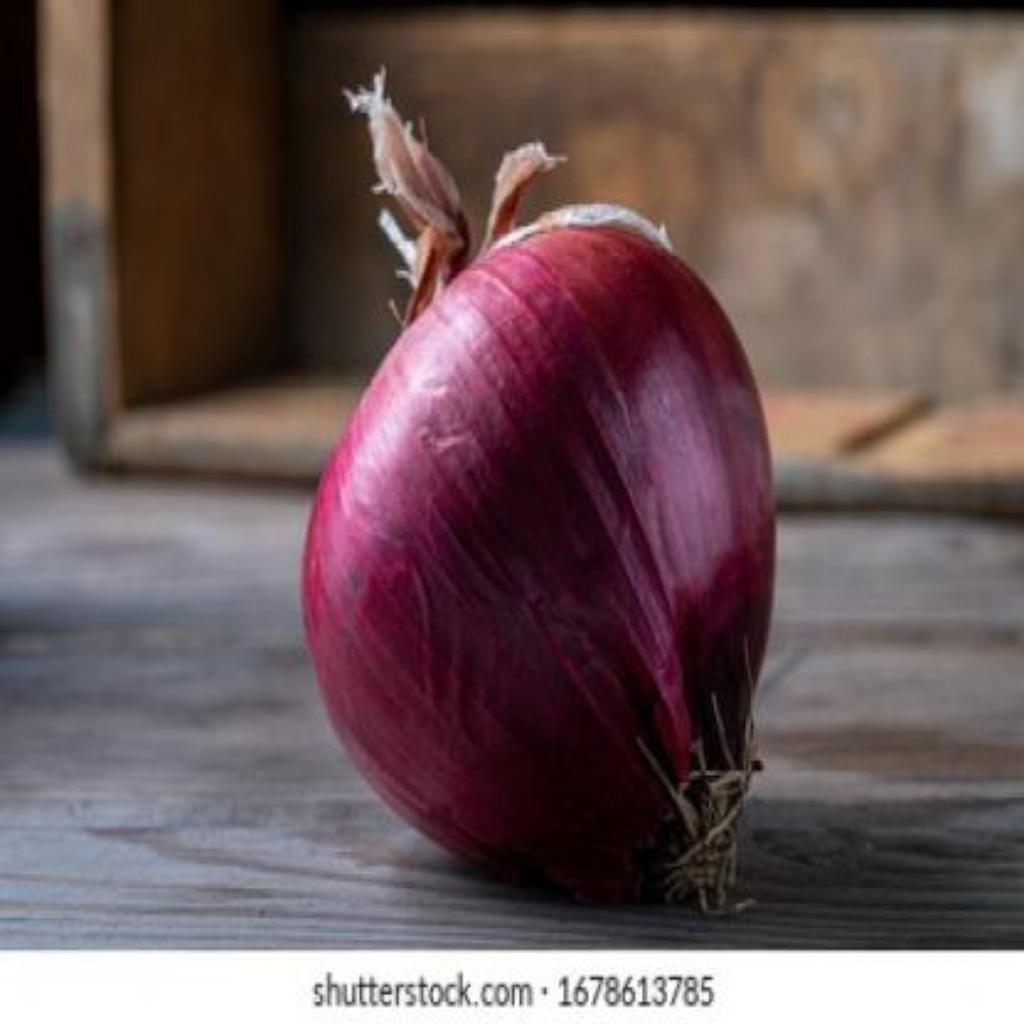Onion: (305, 76, 775, 905)
